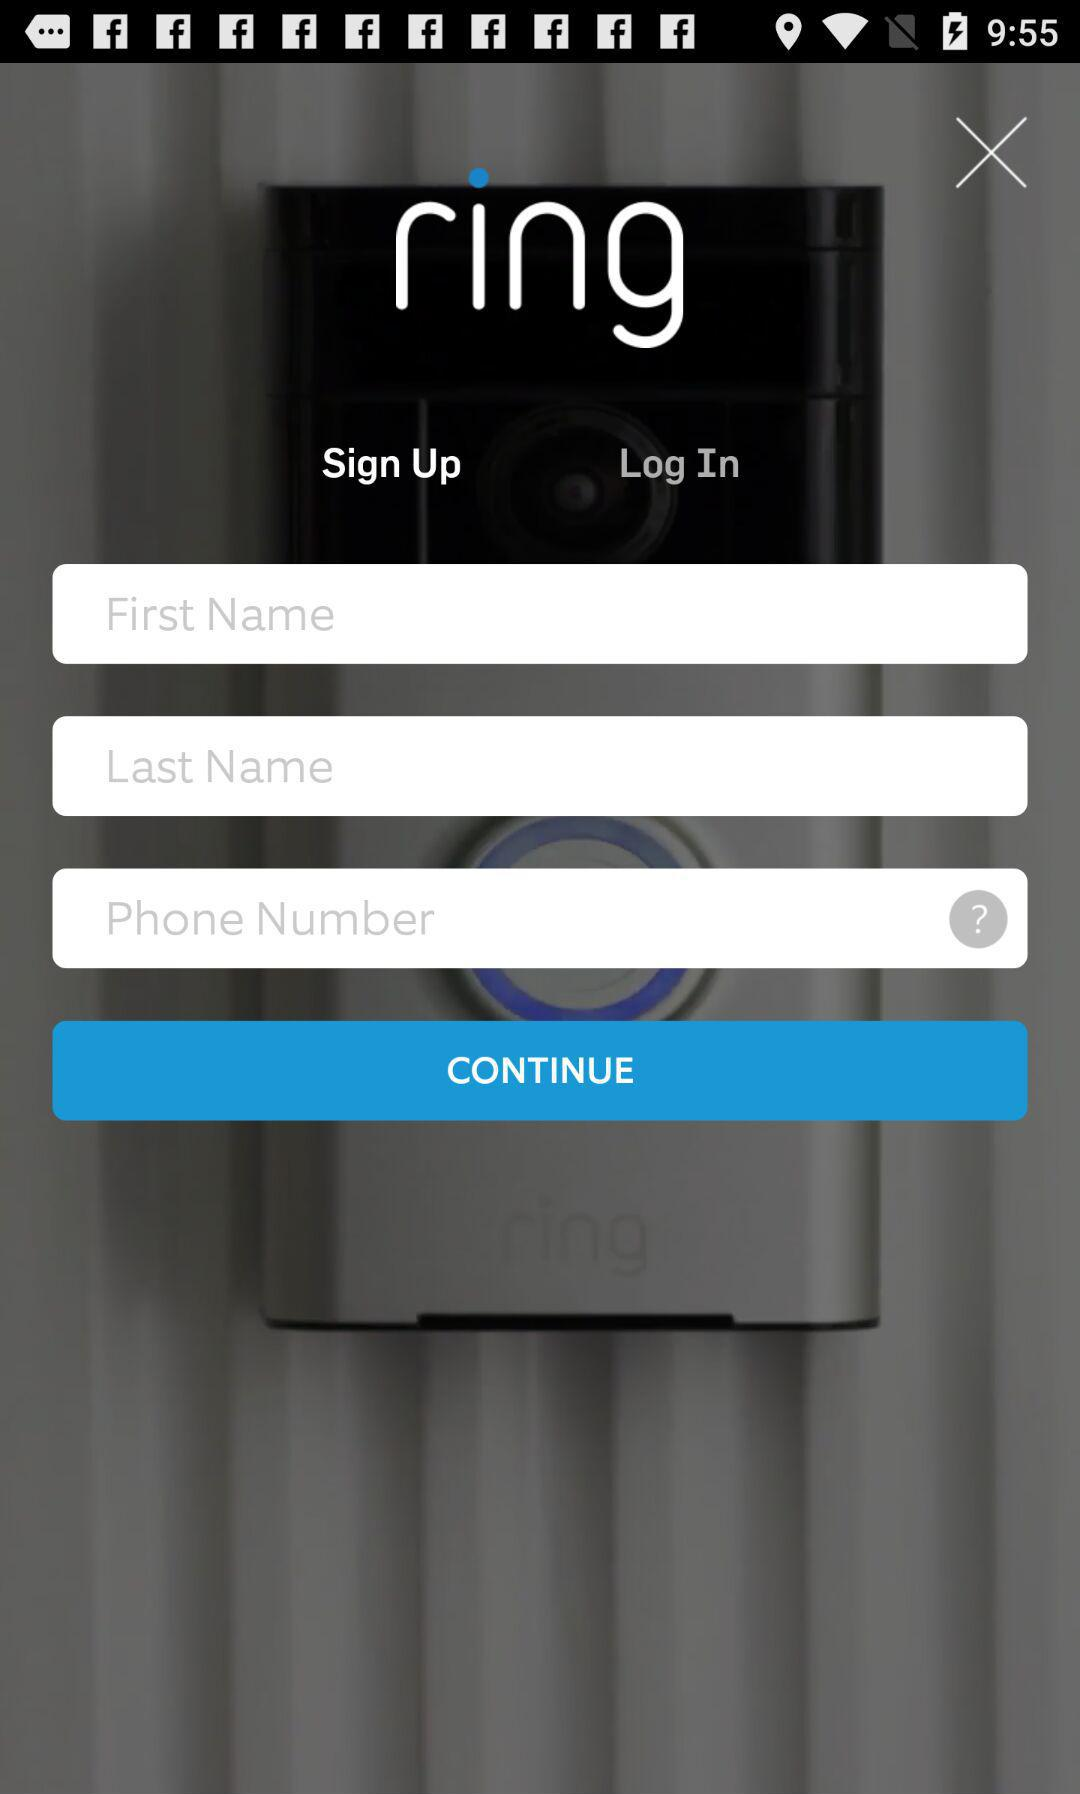BackgroundImage: (1, 64, 1080, 1794)
EditText: (53, 564, 1029, 665), (53, 716, 1029, 818), (53, 868, 1029, 969)
Icon: (954, 117, 1029, 192), (949, 891, 1008, 950)
Image: (396, 167, 685, 350)
Text: (109, 900, 436, 935), (109, 596, 334, 632), (109, 750, 333, 784), (322, 447, 462, 487), (620, 447, 740, 488)
TextButton: (53, 1020, 1027, 1123)
UpperTaskBar: (1, 1, 1080, 64)
